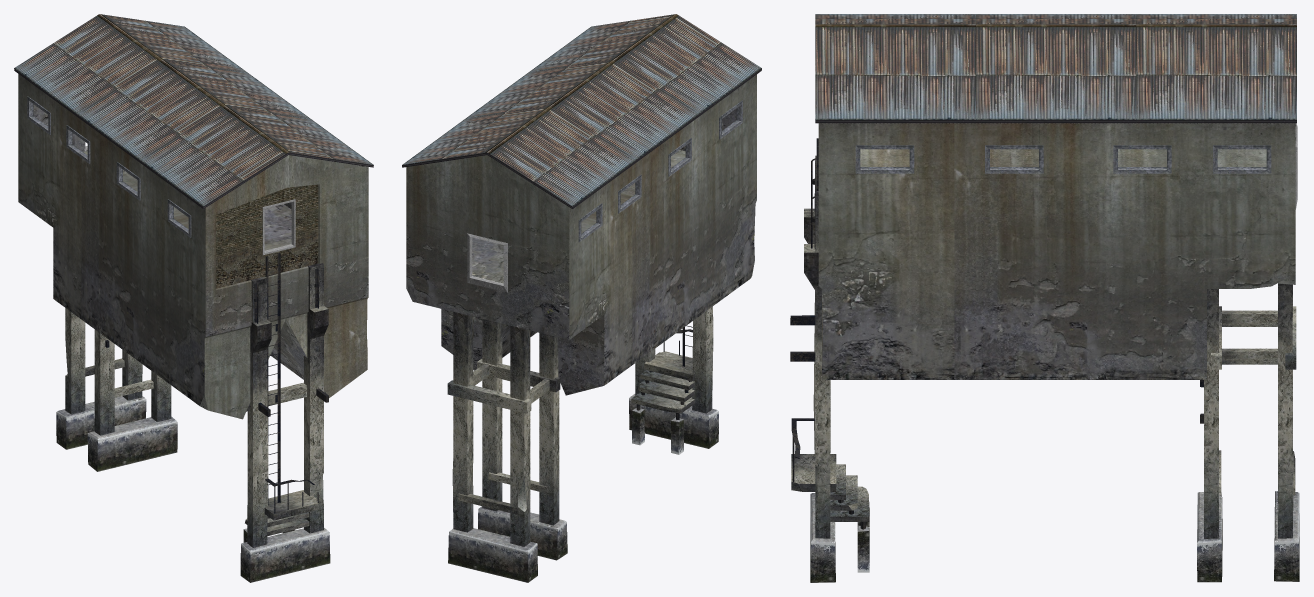
The picture shows the model from 3 angles, left to right: view 1: azimuth 30°, elevation 25°; view 2: azimuth 150°, elevation 25°; view 3: azimuth 270°, elevation 25°; orthographic projection. The views are drawn at different scales.
Parts seen in each view (by area): view 1: b16; view 2: b16; view 3: b16.
Part boxes in pixels (box(x1,y1,x2,y2)): b16: box(14, 14, 373, 582); b16: box(402, 14, 761, 582); b16: box(790, 14, 1299, 582).
Size of the model in its own units: 9.63 by 22.62 by 19.57.
1 material, 1 textured.
